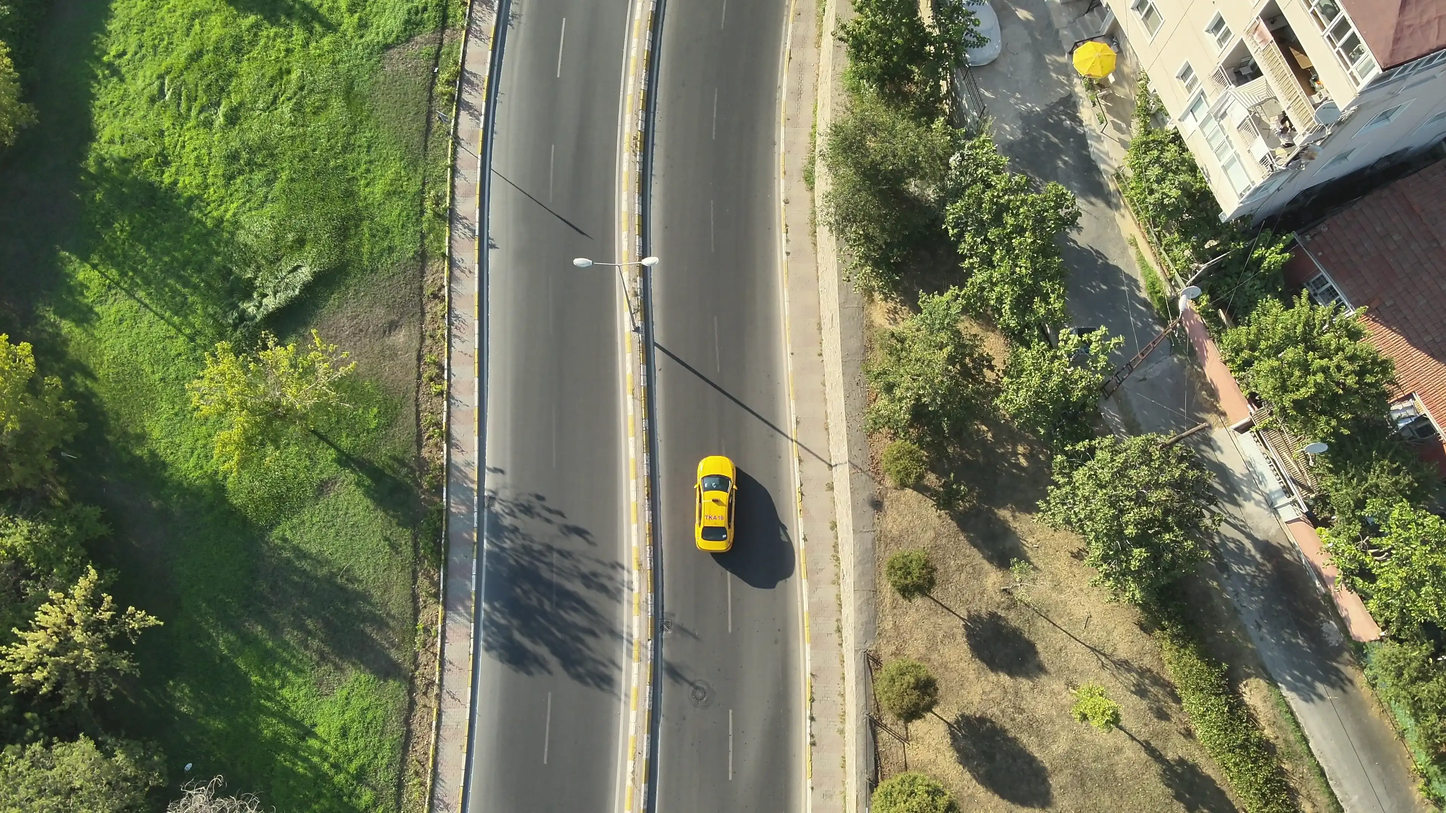vehicle: (693, 450, 741, 552)
